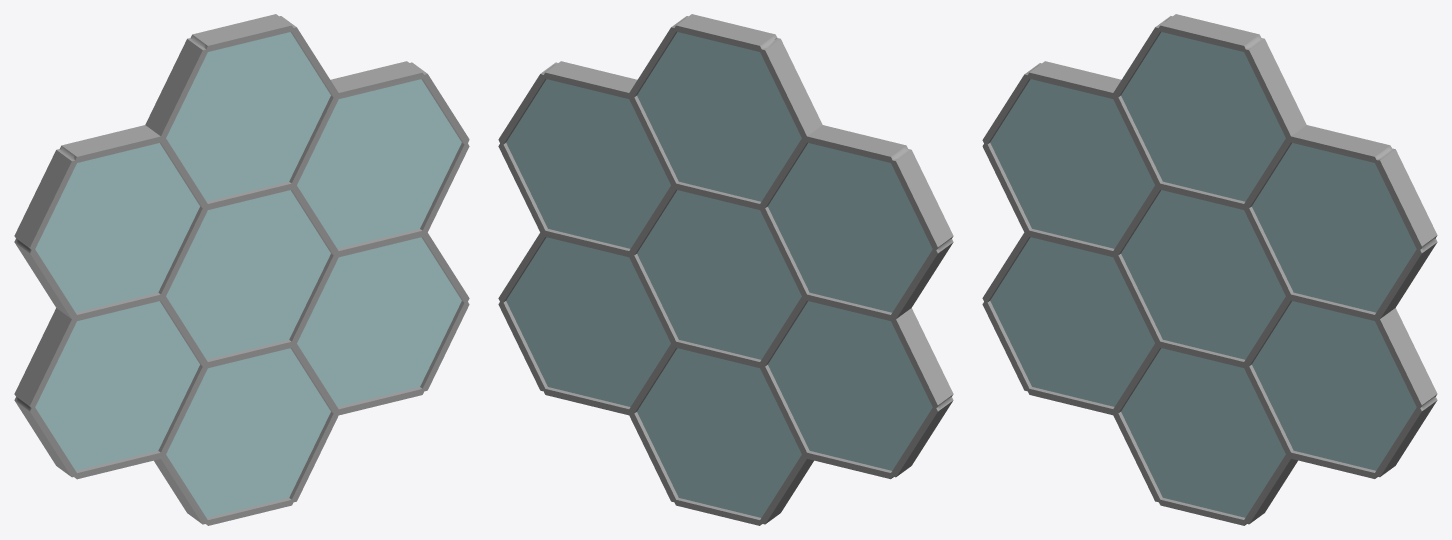
Rendered from Shield.fbx.
The picture shows the model from 3 angles, left to right: view 1: azimuth 30°, elevation 25°; view 2: azimuth 150°, elevation 25°; view 3: azimuth 330°, elevation 25°; orthographic projection.
Visible parts, largest first — view 1: Shield; view 2: Shield; view 3: Shield.
Part boxes in pixels (x1,y1,x2,y2): Shield: (14,14,469,525); Shield: (498,14,953,525); Shield: (982,14,1437,525).
Size of the model in its own units: 4.85 by 5.06 by 0.3008.
